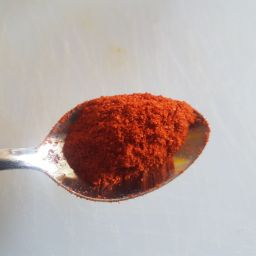Red chilli: (43, 81, 205, 204), (89, 99, 177, 189)
